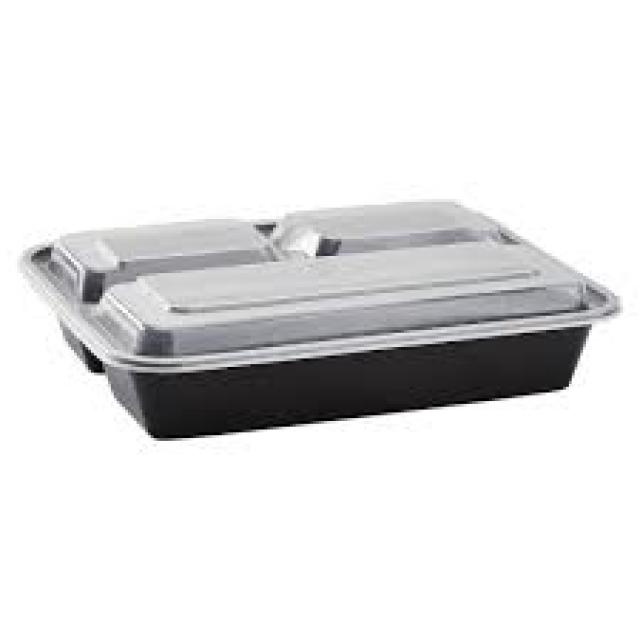disposable: (19, 178, 626, 438)
